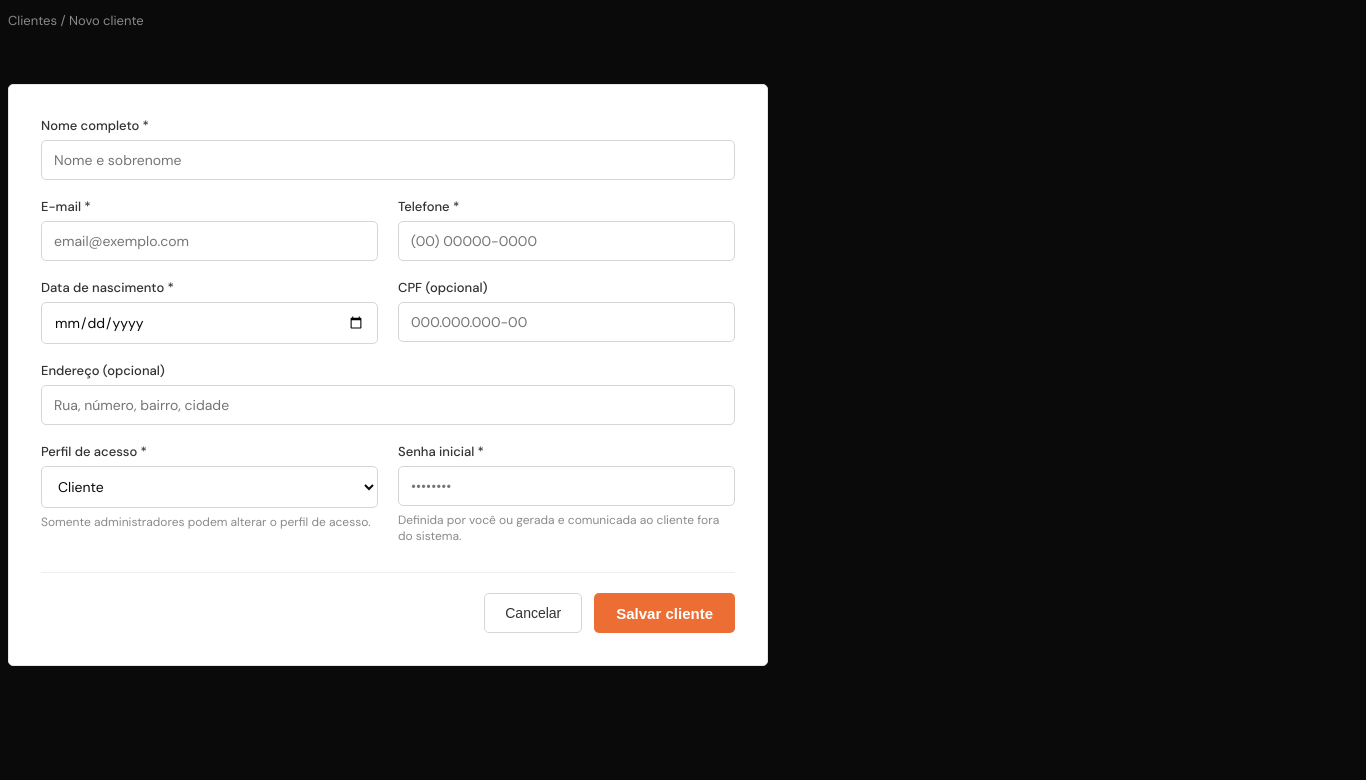
Test: Cadastro de cliente (tela cheia) › cadastra sem CPF e endereço e mantém telefone e nascimento obrigatórios
Type "Carla Nova" into the field labelled "Nome completo *" at [388, 160], box [41,140,735,180]
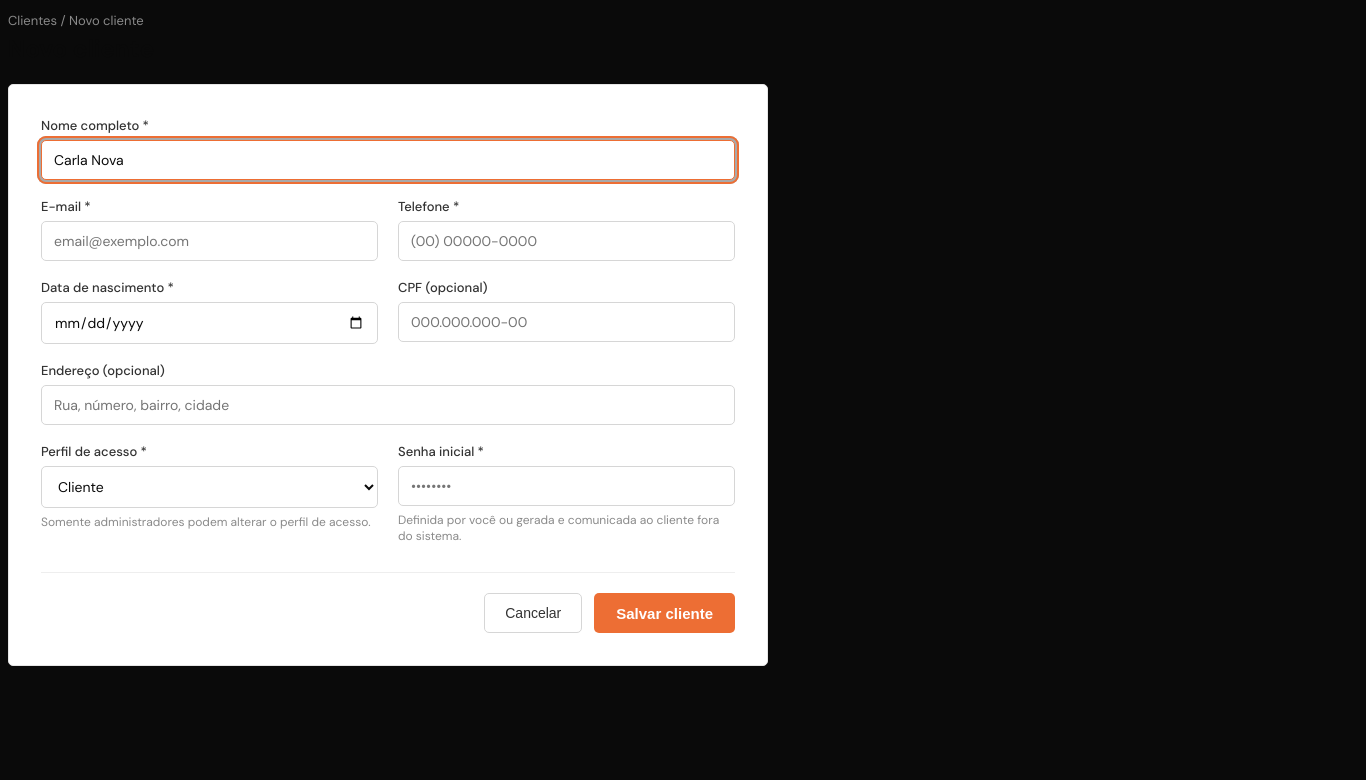
Type "carla@email.com" into the field labelled "E-mail *" at [210, 241], box [41,221,378,261]
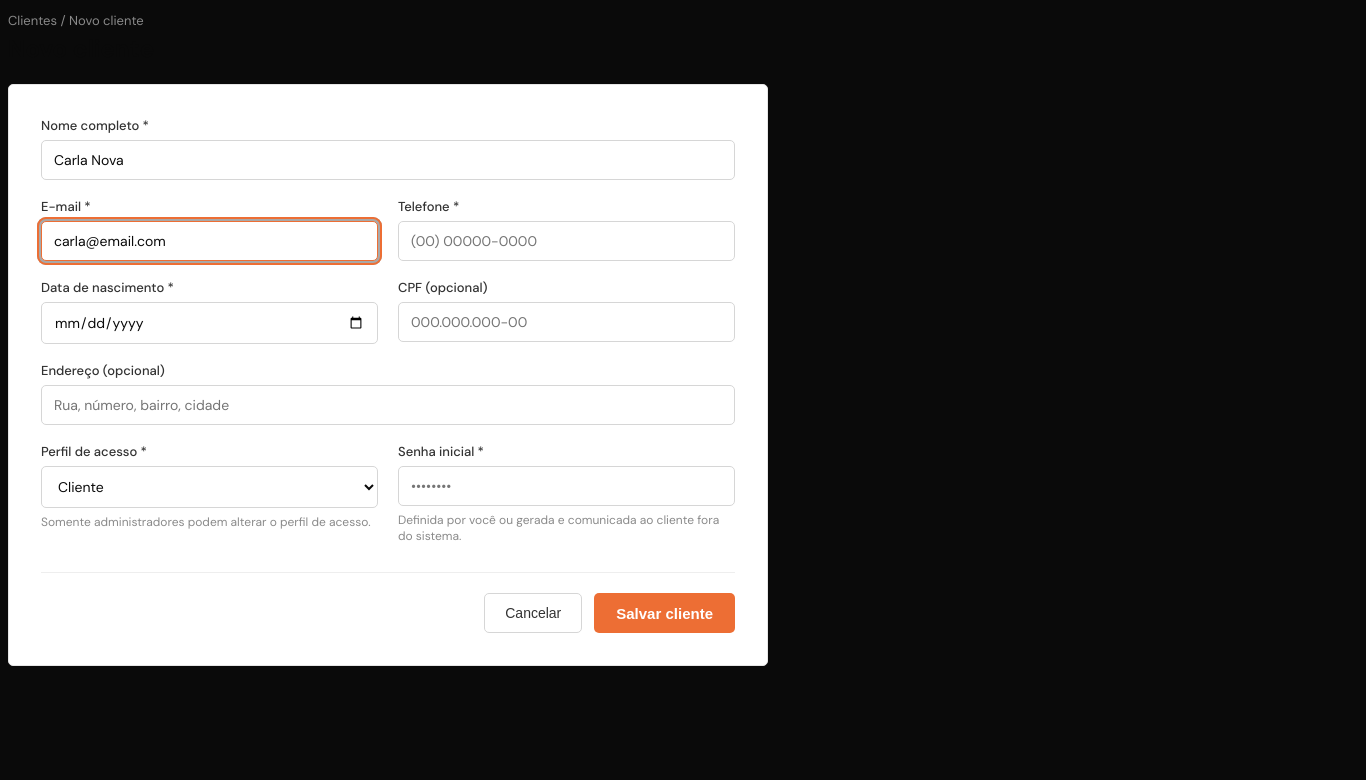
Type "11911112222" into the field labelled "Telefone *" at [566, 241], box [398,221,735,261]
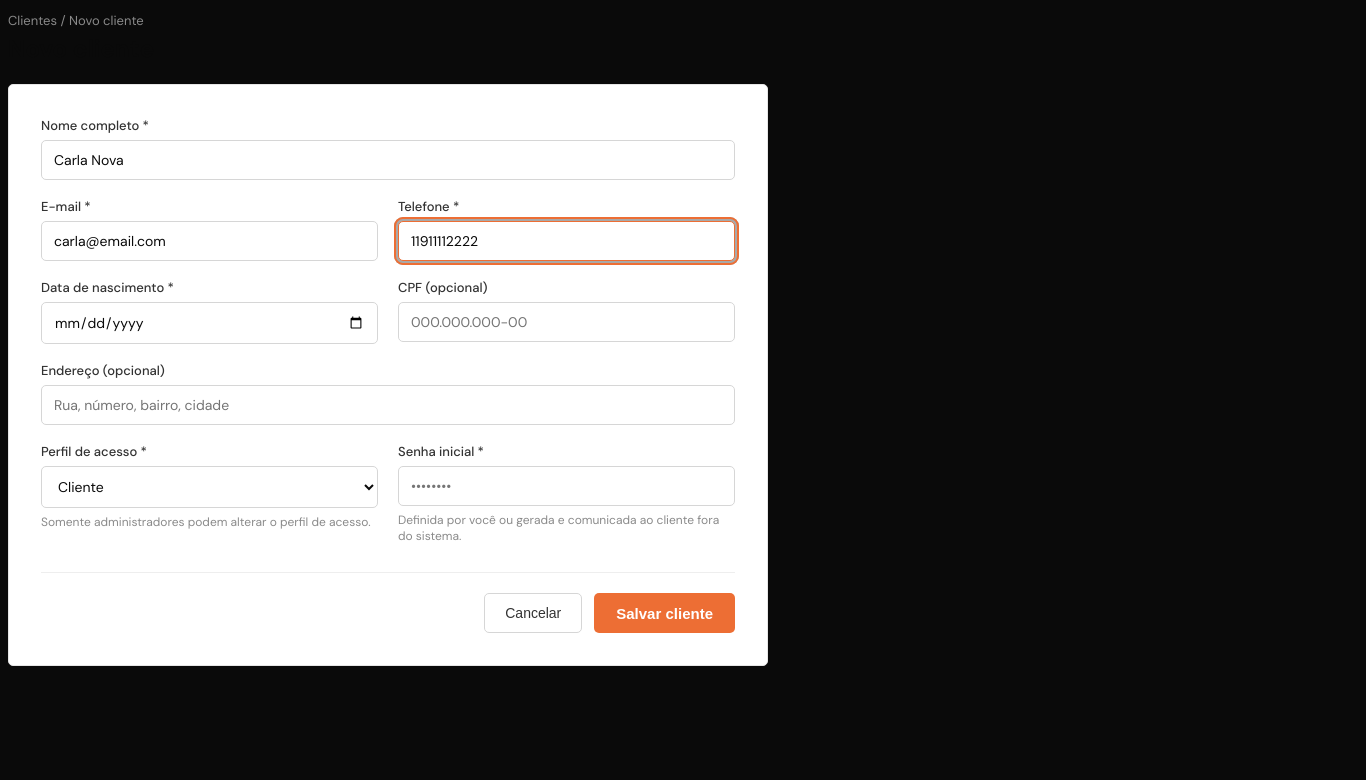
Type "1995-05-20" into the date field labelled "Data de nascimento *" at [210, 323], box [41,302,378,344]
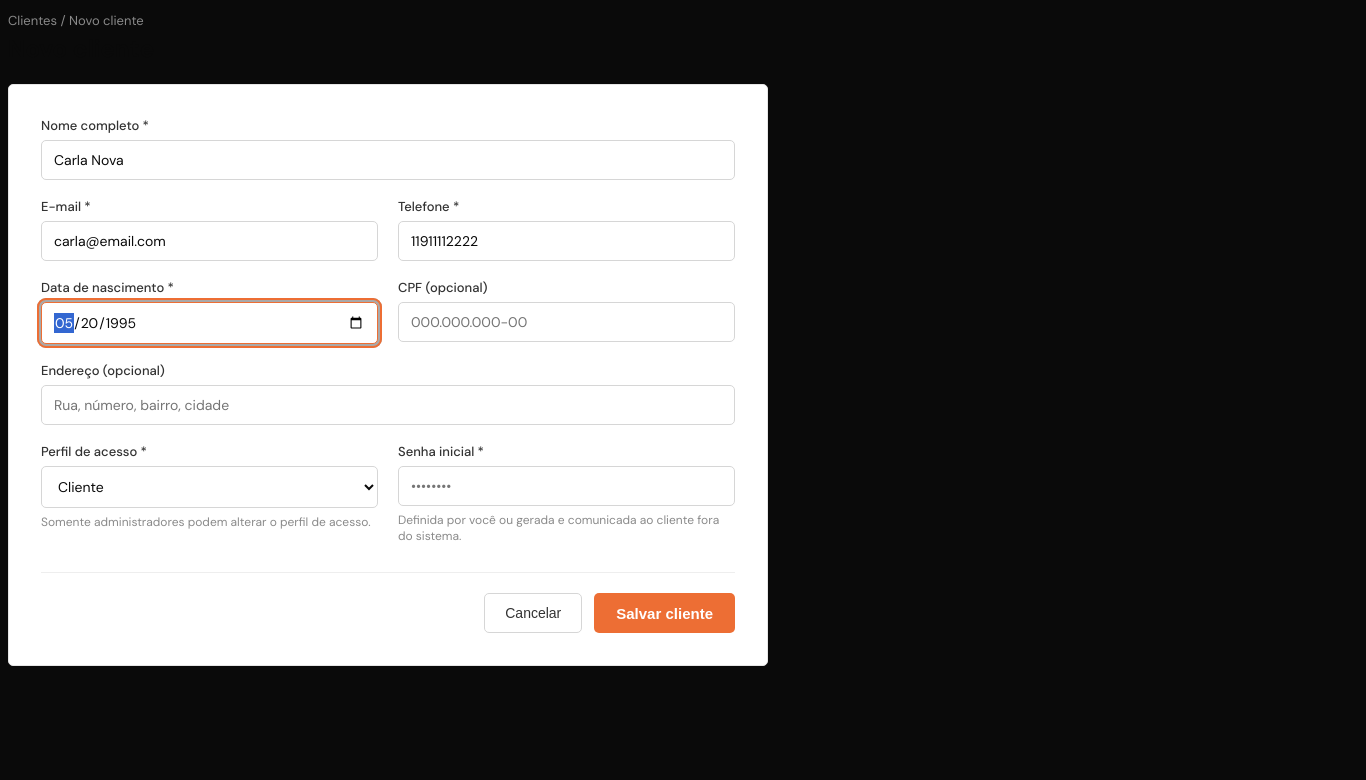
Type "SenhaForte123!" into the password field labelled "Senha inicial *" at [566, 486], box [398,466,735,506]
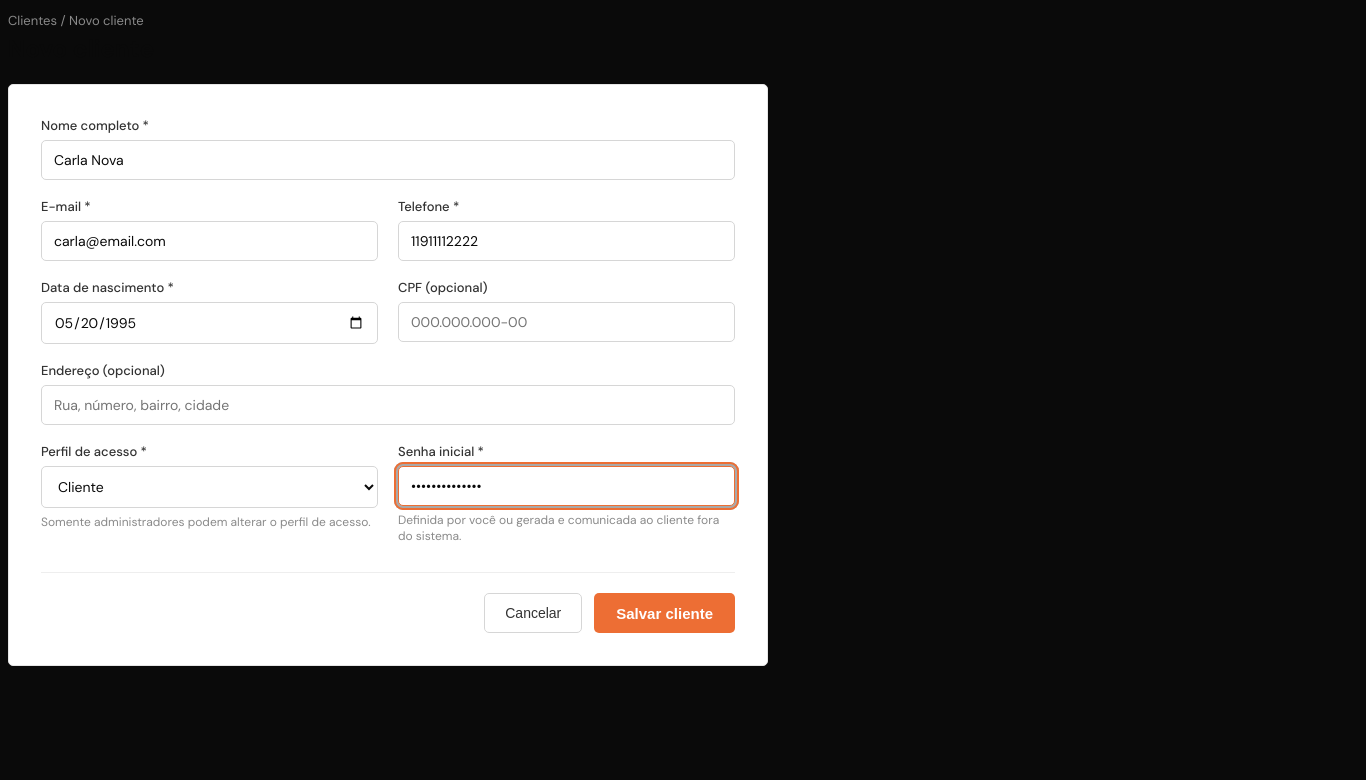
Click the button "Salvar cliente" at [665, 613], box [594,593,735,633]
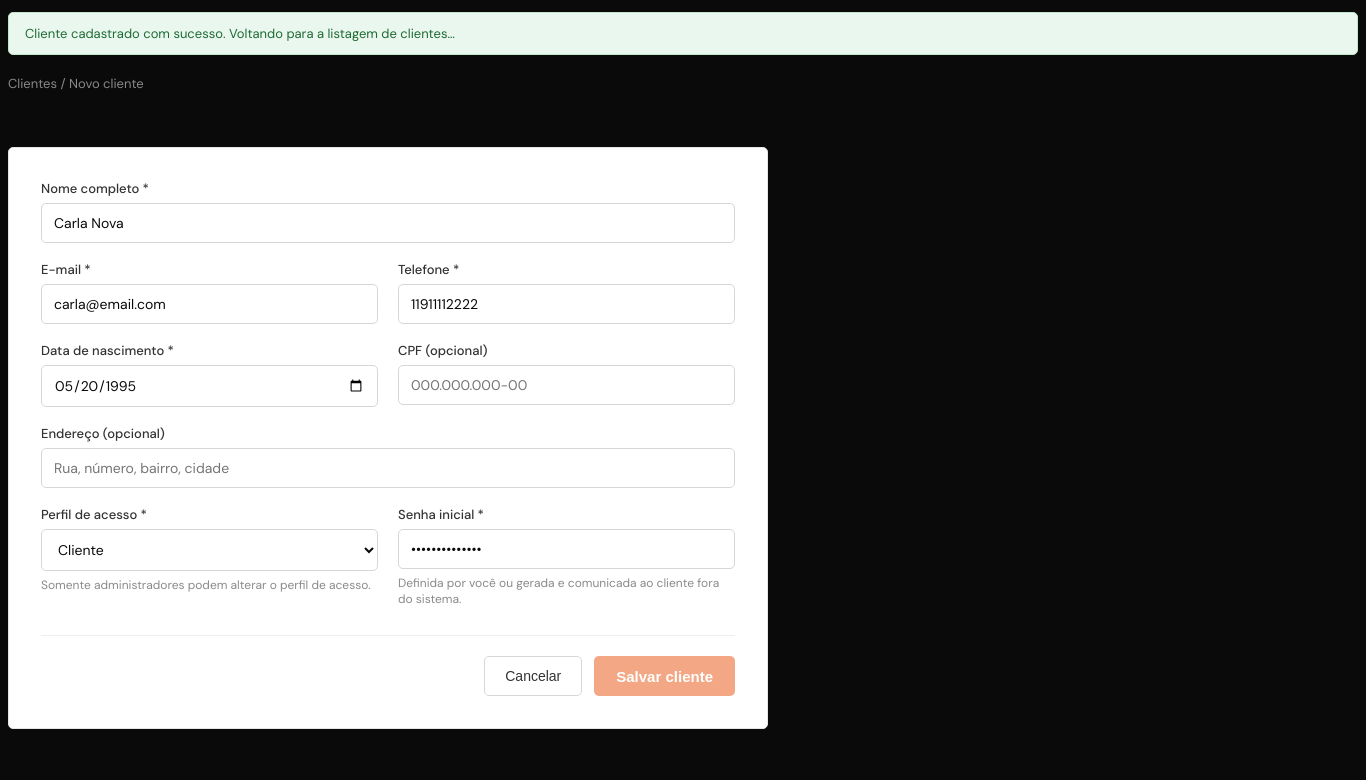
expect the message shows "Cliente cadastrado com sucesso.": met, box [25,25,455,42]
